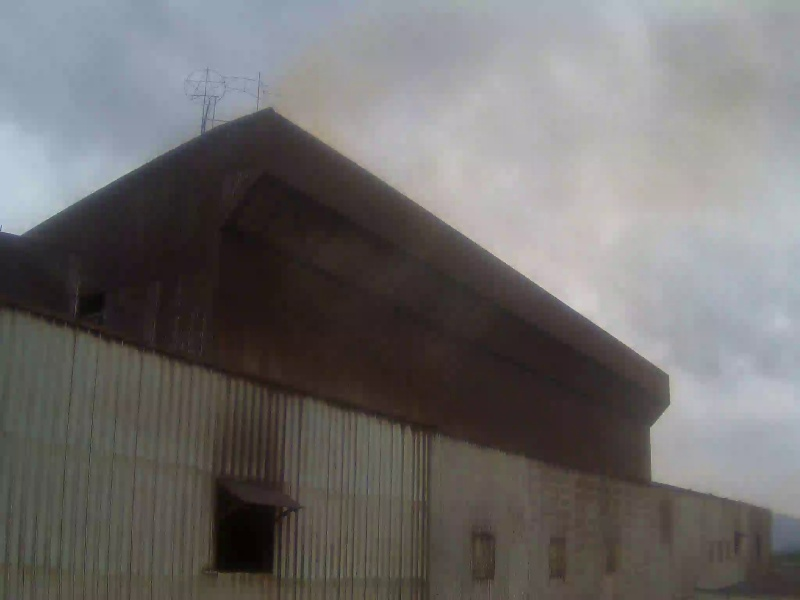Ruim: (300, 24, 660, 278)
